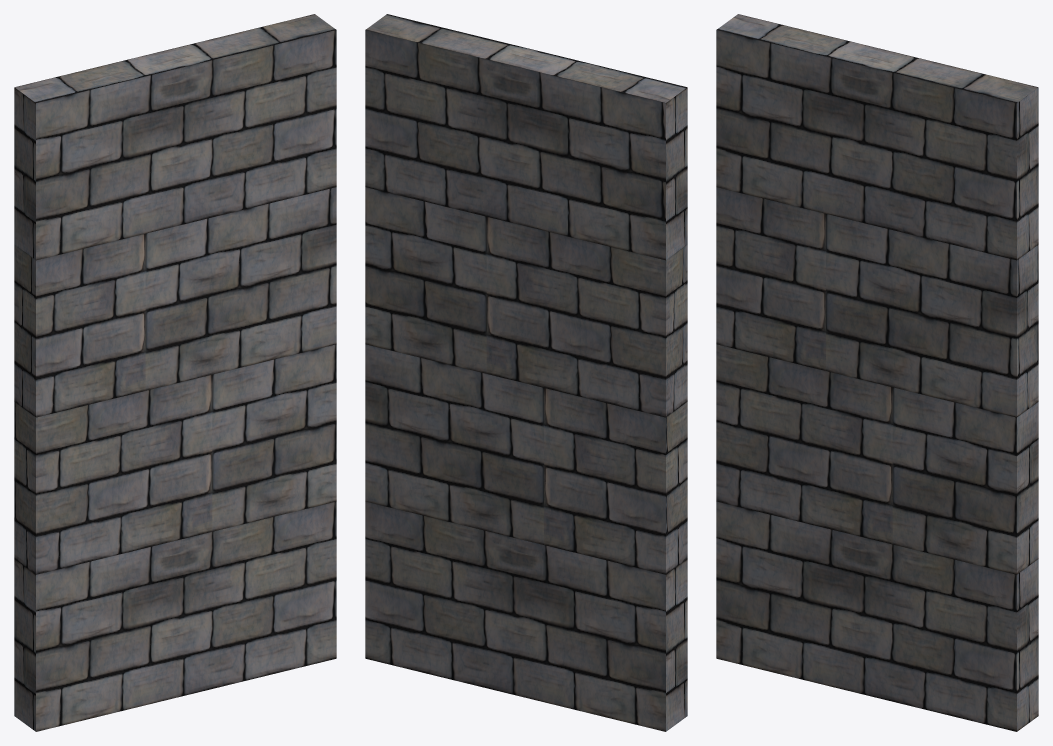
File: wall_01.glb
3 renders of one model, left to right at view 1: azimuth 30°, elevation 25°; view 2: azimuth 150°, elevation 25°; view 3: azimuth 330°, elevation 25°, orthographic.
Visible parts, largest first — view 1: wall_01; view 2: wall_01; view 3: wall_01.
Part boxes in pixels (x1,y1,x2,y2): wall_01: [14, 14, 336, 731]; wall_01: [365, 14, 687, 731]; wall_01: [716, 14, 1038, 731].
Size of the model in its own units: 8 by 16 by 1.
1 material, 1 textured.
